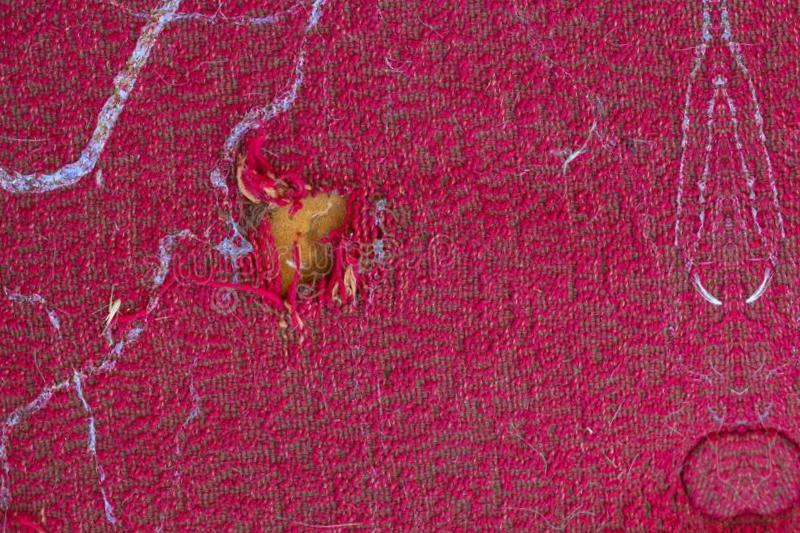hole: (249, 177, 375, 322)
